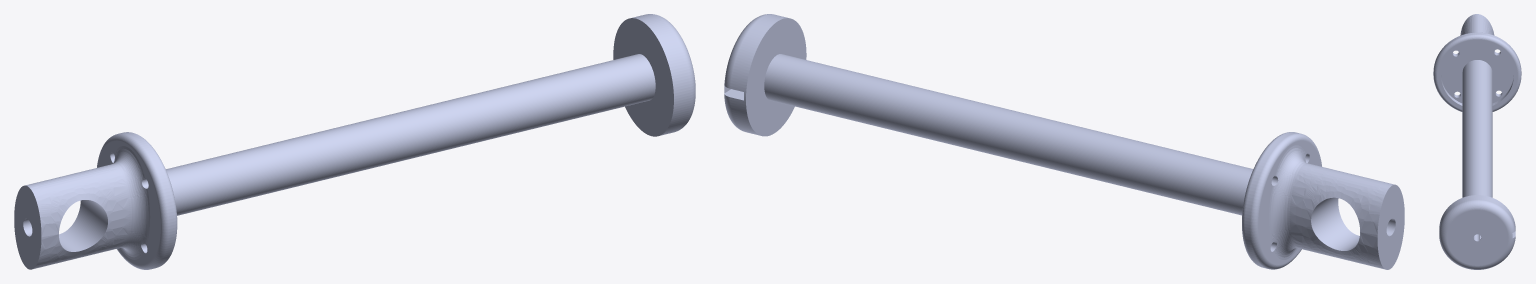
The model's file is LinearJoint.dae.
3 renders of one model, left to right at view 1: azimuth 30°, elevation 25°; view 2: azimuth 150°, elevation 25°; view 3: azimuth 270°, elevation 25°, orthographic. The views are drawn at different scales.
Parts seen in each view (by area): view 1: node1, node0; view 2: node1, node0; view 3: node1, node0.
Part boxes in pixels (<box>): node1: <box>14,54,655,269</box>; node0: <box>613,14,695,136</box>; node1: <box>764,54,1404,269</box>; node0: <box>724,14,806,136</box>; node1: <box>1433,14,1521,197</box>; node0: <box>1439,195,1515,269</box>.
Size of the model in its own units: 0.1222 by 0.023 by 0.023.
